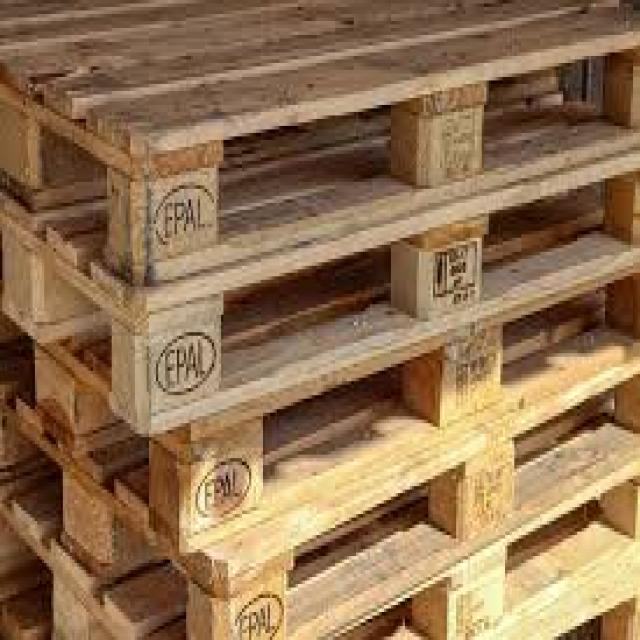Wooden-Pallets: (142, 147, 639, 447), (167, 262, 640, 561), (132, 17, 636, 275)
